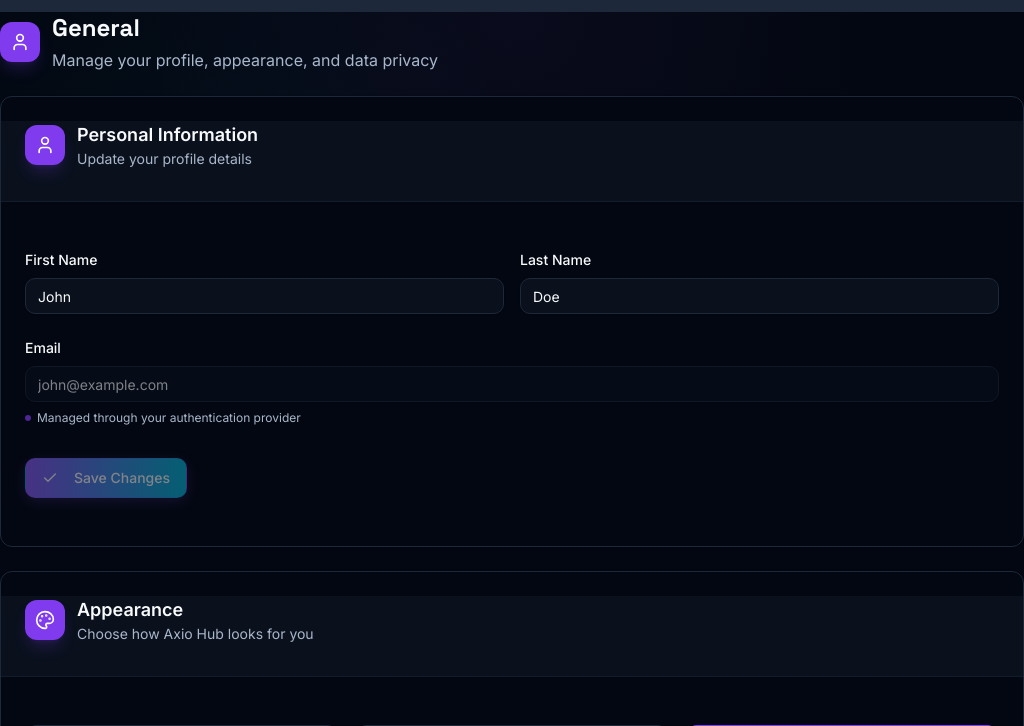
Test: GeneralSettings - Danger Zone › Form Validation › should show error when first name is empty
Clear the field labelled "First Name": [264, 296] box [25,278,504,314]
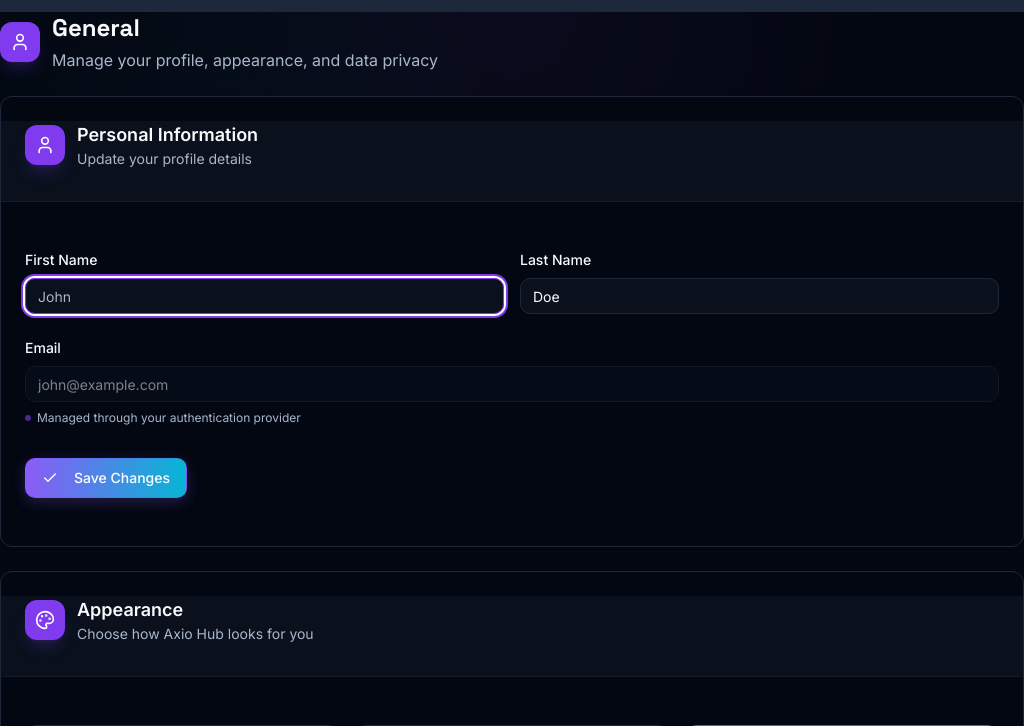
Click the button "Save Changes": [106, 478] box [25,458,187,498]
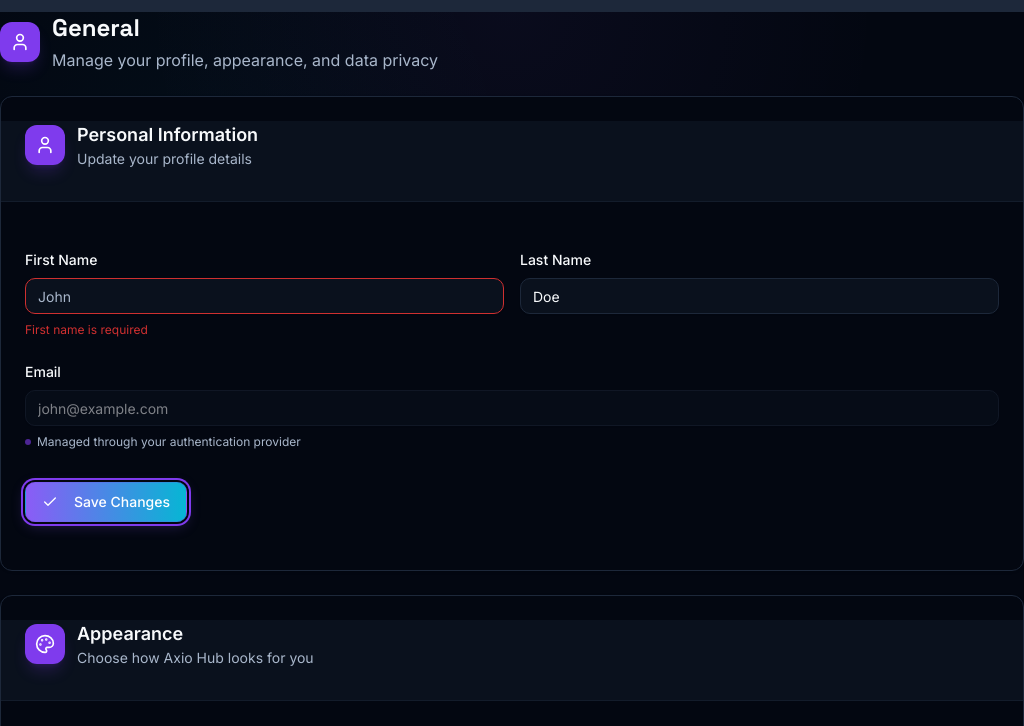
Now the text "First name is required" is shown, box [25,322,148,337]
